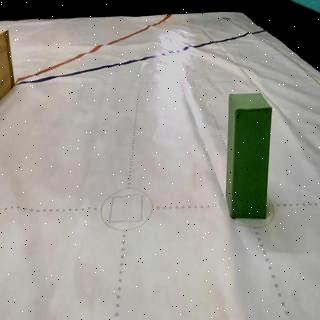greenbox: (226, 91, 272, 218)
